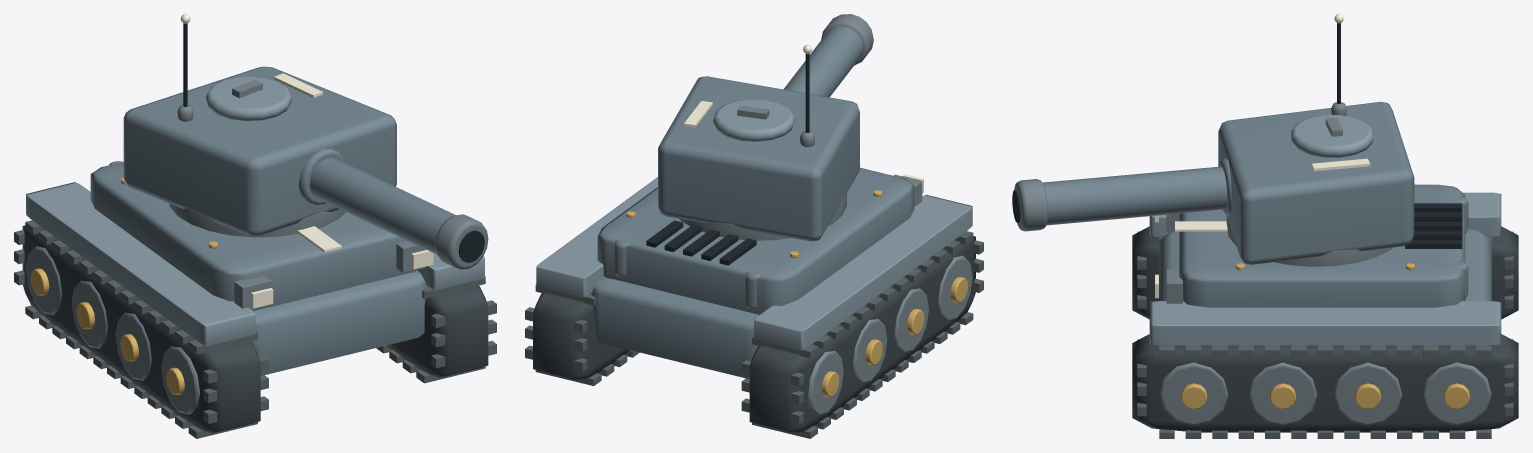
The model's file is tank_08_charcoal_command.glb.
3 renders of one model, left to right at view 1: azimuth 30°, elevation 25°; view 2: azimuth 150°, elevation 25°; view 3: azimuth 270°, elevation 25°, orthographic. The views are drawn at different scales.
Parts seen in each view (by area): view 1: Faceted turret.002, Upper deck.007, Track guard.014, Lower hull.007, Track belt.014, Cannon tube.008, Track belt.015, Commander hatch.007, Muzzle rim.008, Turret bearing.007, Road wheel.056, Road wheel.057 (+10 smaller); view 2: Faceted turret.002, Upper deck.007, Track guard.014, Lower hull.007, Track belt.014, Track belt.015, Track guard.015, Cannon tube.008, Commander hatch.007, Road wheel.059, Road wheel.056, Road wheel.057 (+9 smaller); view 3: Faceted turret.002, Track belt.015, Upper deck.007, Track guard.015, Cannon tube.008, Track belt.014, Road wheel.063, Road wheel.060, Road wheel.061, Road wheel.062, Lower hull.007, Commander hatch.007 (+15 smaller).
Part boxes in pixels (x1,y1,x2,y2): Faceted turret.002: [123, 66, 396, 235]; Upper deck.007: [90, 162, 417, 310]; Track guard.014: [26, 182, 255, 346]; Lower hull.007: [251, 270, 427, 375]; Track belt.014: [22, 225, 260, 433]; Cannon tube.008: [309, 157, 455, 254]; Track belt.015: [387, 285, 488, 378]; Commander hatch.007: [206, 76, 291, 121]; Muzzle rim.008: [435, 214, 488, 269]; Turret bearing.007: [169, 203, 345, 237]; Road wheel.056: [161, 346, 199, 414]; Road wheel.057: [115, 312, 151, 380]; Faceted turret.002: [658, 76, 859, 241]; Upper deck.007: [597, 167, 914, 314]; Track guard.014: [754, 195, 972, 350]; Lower hull.007: [590, 276, 758, 378]; Track belt.014: [749, 236, 975, 433]; Track belt.015: [533, 293, 629, 381]; Track guard.015: [536, 177, 657, 297]; Cannon tube.008: [783, 26, 863, 97]; Commander hatch.007: [713, 99, 794, 141]; Road wheel.059: [807, 350, 843, 415]; Road wheel.056: [938, 255, 972, 321]; Road wheel.057: [894, 288, 928, 353]; Faceted turret.002: [1218, 102, 1414, 264]; Track belt.015: [1132, 334, 1518, 432]; Upper deck.007: [1179, 184, 1465, 307]; Track guard.015: [1149, 301, 1501, 345]; Cannon tube.008: [1043, 166, 1227, 225]; Track belt.014: [1132, 226, 1518, 319]; Road wheel.063: [1422, 362, 1491, 425]; Road wheel.060: [1159, 362, 1228, 425]; Road wheel.061: [1248, 362, 1317, 425]; Road wheel.062: [1333, 362, 1402, 425]; Lower hull.007: [1159, 229, 1491, 300]; Commander hatch.007: [1291, 115, 1373, 157].
Size of the model in its own units: 1.64 by 1.75 by 2.46.
